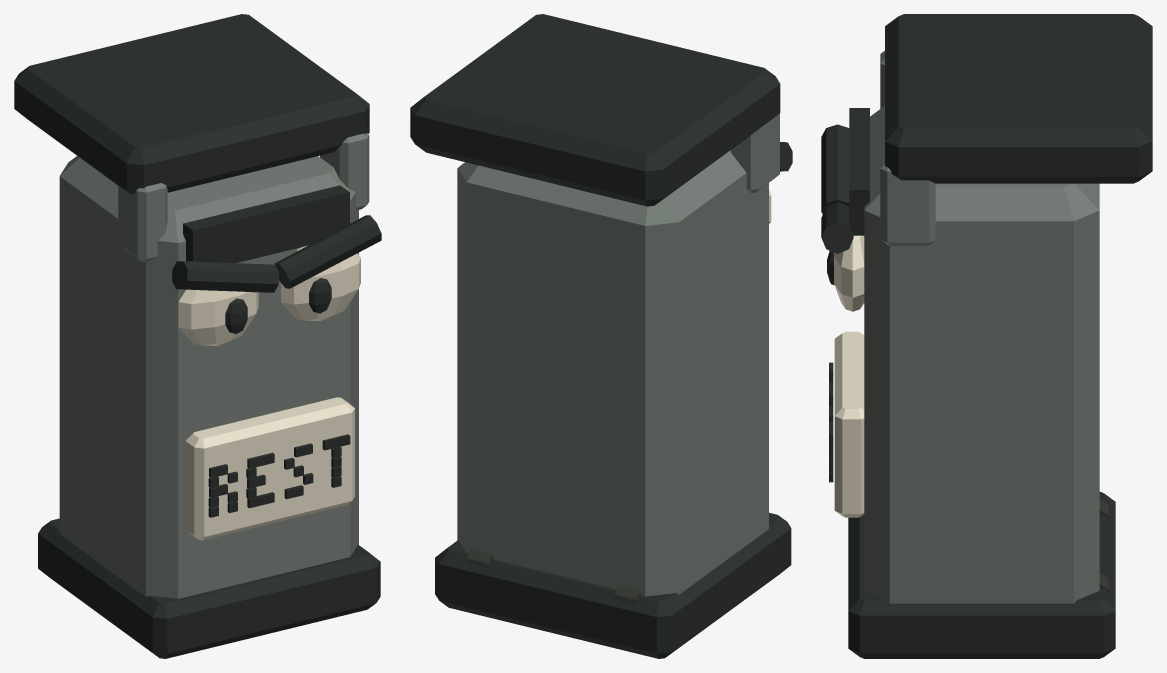
The model's file is station-bin.glb.
3 renders of one model, left to right at view 1: azimuth 30°, elevation 25°; view 2: azimuth 150°, elevation 25°; view 3: azimuth 270°, elevation 25°, orthographic. The views are drawn at different scales.
Visible parts, largest first — view 1: station-bin; view 2: station-bin; view 3: station-bin.
Boxes of the visible parts, x1,y1,x2,y2 form: station-bin: [14, 14, 381, 658]; station-bin: [410, 14, 792, 658]; station-bin: [821, 14, 1152, 658].
Size of the model in its own units: 0.65 by 1.27 by 0.718.
